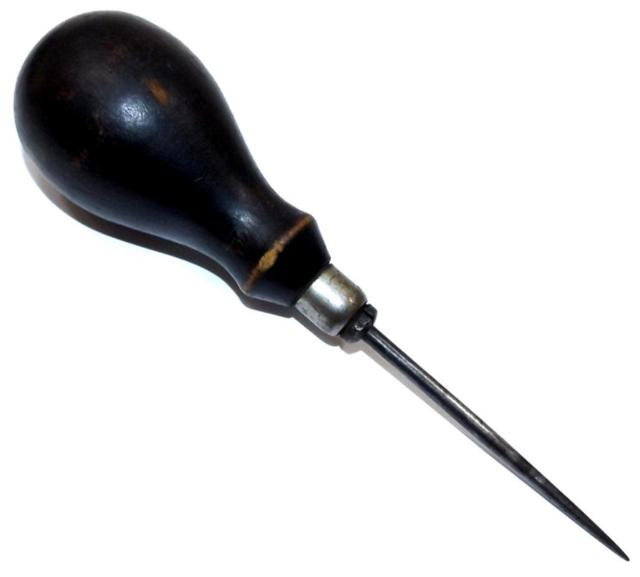ice pick: (12, 8, 632, 564)
